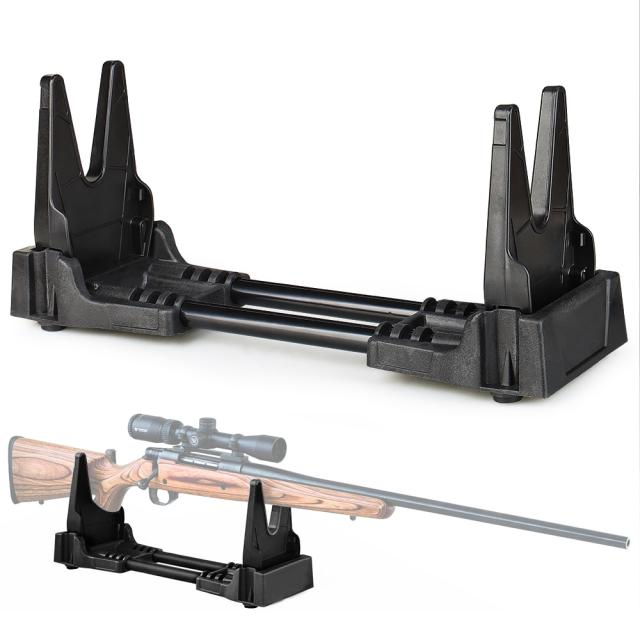Rifle: (9, 415, 547, 529)
